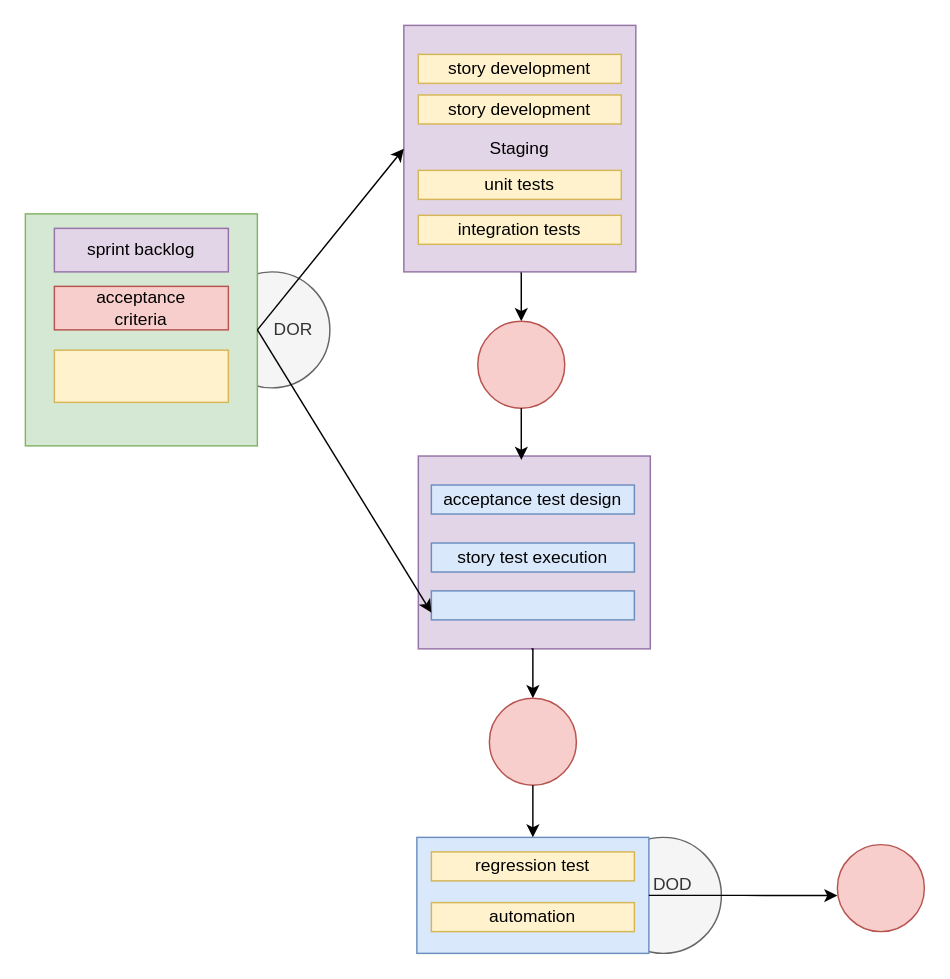
Image size: 950x979. Some labels were removed from this diagram. Each missing label, with the centre of its shape:
bug reporting: the point at 532,604
end sprint /feature: the point at 532,741
go/no go: the point at 880,887
ready for test: the point at 520,364
swagger ui/api mocks: the point at 140,375
